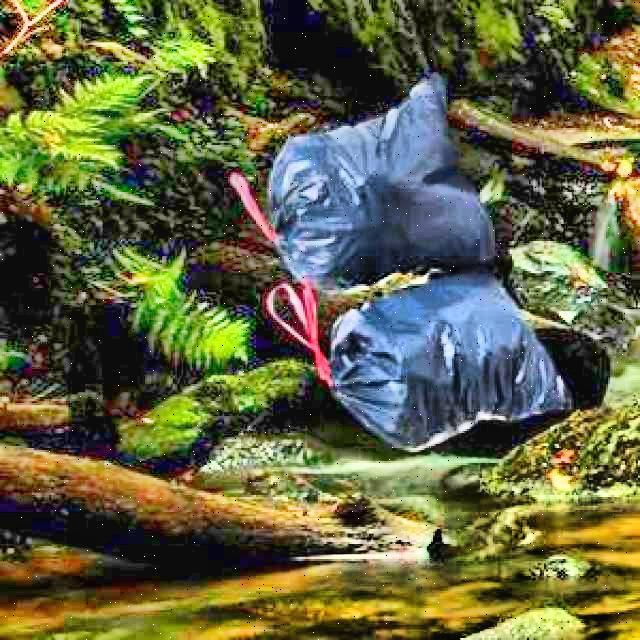Trashbag: (262, 68, 498, 284), (325, 260, 578, 455)
